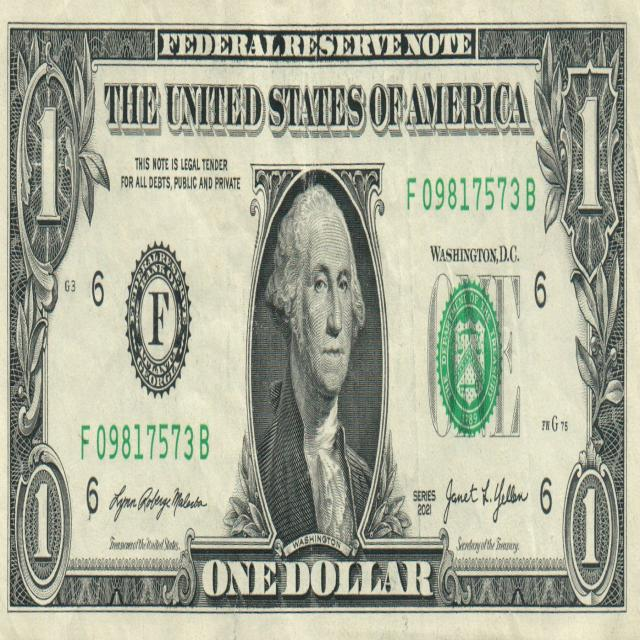SerialNumber: (81, 424, 209, 460), (407, 177, 535, 211)
